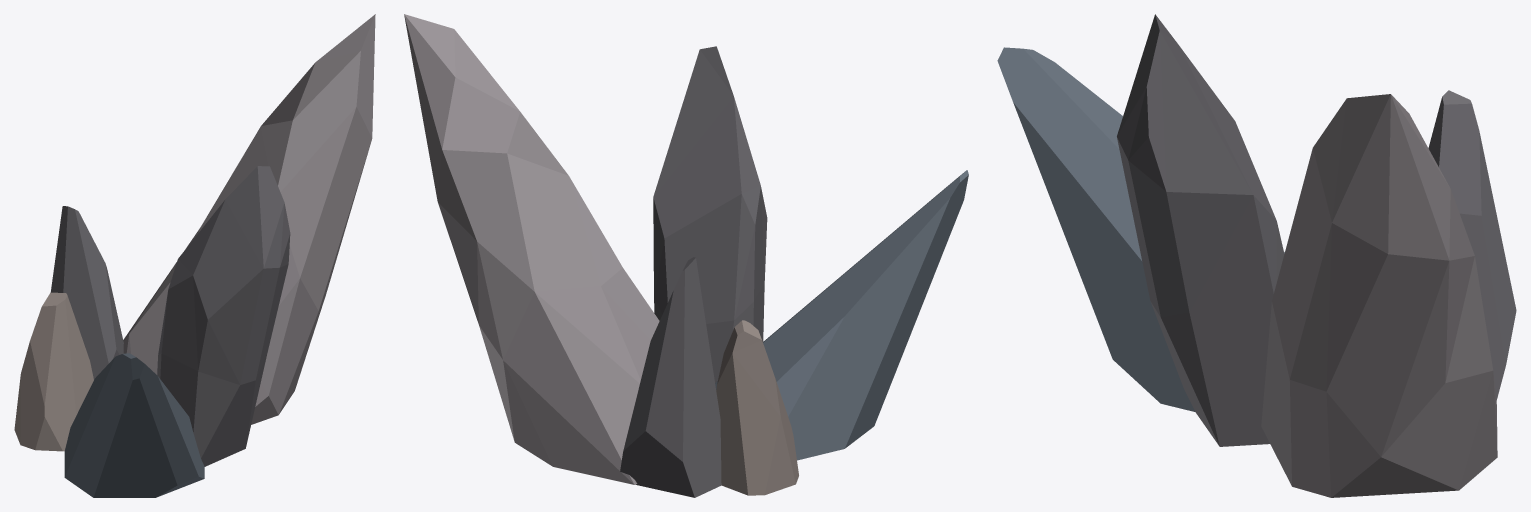
The model's file is Rocks_Sharp_l_06.fbx.
The picture shows the model from 3 angles, left to right: view 1: azimuth 30°, elevation 25°; view 2: azimuth 150°, elevation 25°; view 3: azimuth 270°, elevation 25°; orthographic projection. The views are drawn at different scales.
Parts seen in each view (by area): view 1: Rocks_Sharp_l_06; view 2: Rocks_Sharp_l_06; view 3: Rocks_Sharp_l_06.
Part boxes in pixels (x1=…): Rocks_Sharp_l_06: x1=14, y1=14, x2=375, y2=497; Rocks_Sharp_l_06: x1=404, y1=14, x2=968, y2=497; Rocks_Sharp_l_06: x1=997, y1=14, x2=1516, y2=497.
Size of the model in its own units: 407 by 352 by 342.
